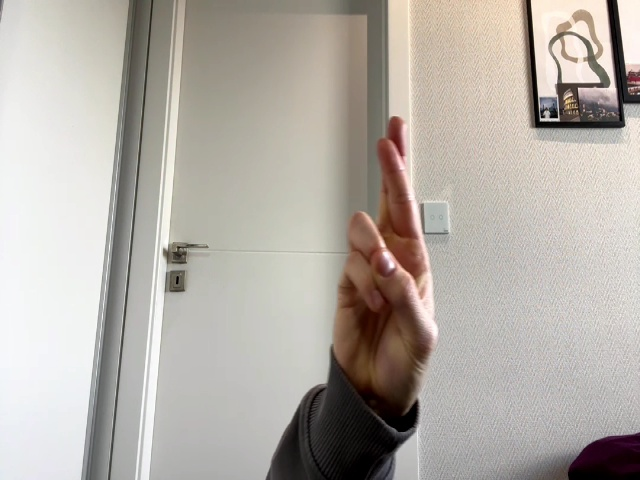R: (335, 117, 438, 402)
